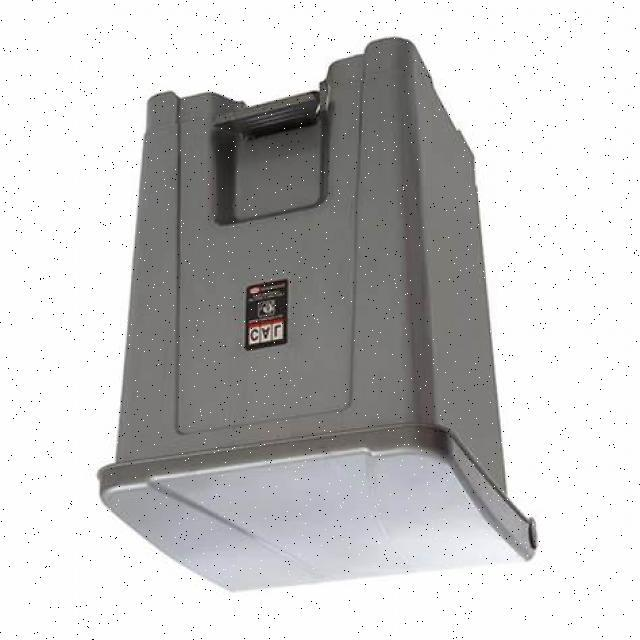garbage container: (91, 39, 578, 629)
